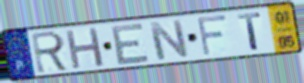E: (110, 21, 152, 67)
F: (195, 13, 230, 58)
H: (64, 26, 107, 71)
N: (146, 18, 192, 62)
R: (29, 29, 72, 75)
T: (236, 11, 264, 52)
